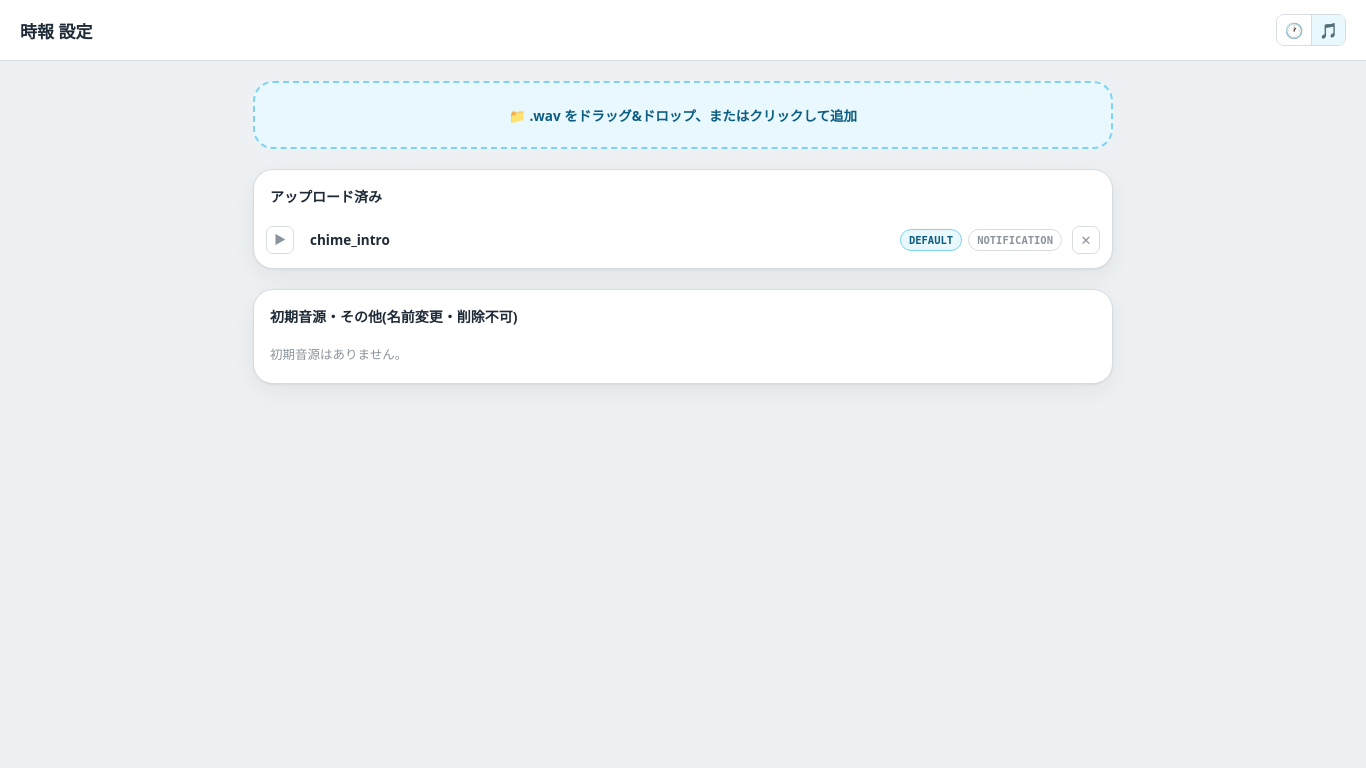
Test: 楽曲管理画面 › 名前変更に失敗すると ErrorDialog を表示し、名前は変わらない
The image size is (1366, 768).
Click the button with aria-label "chime_intro(クリックして名前を変更)": (350, 240) x1=304 y1=227 x2=890 y2=253
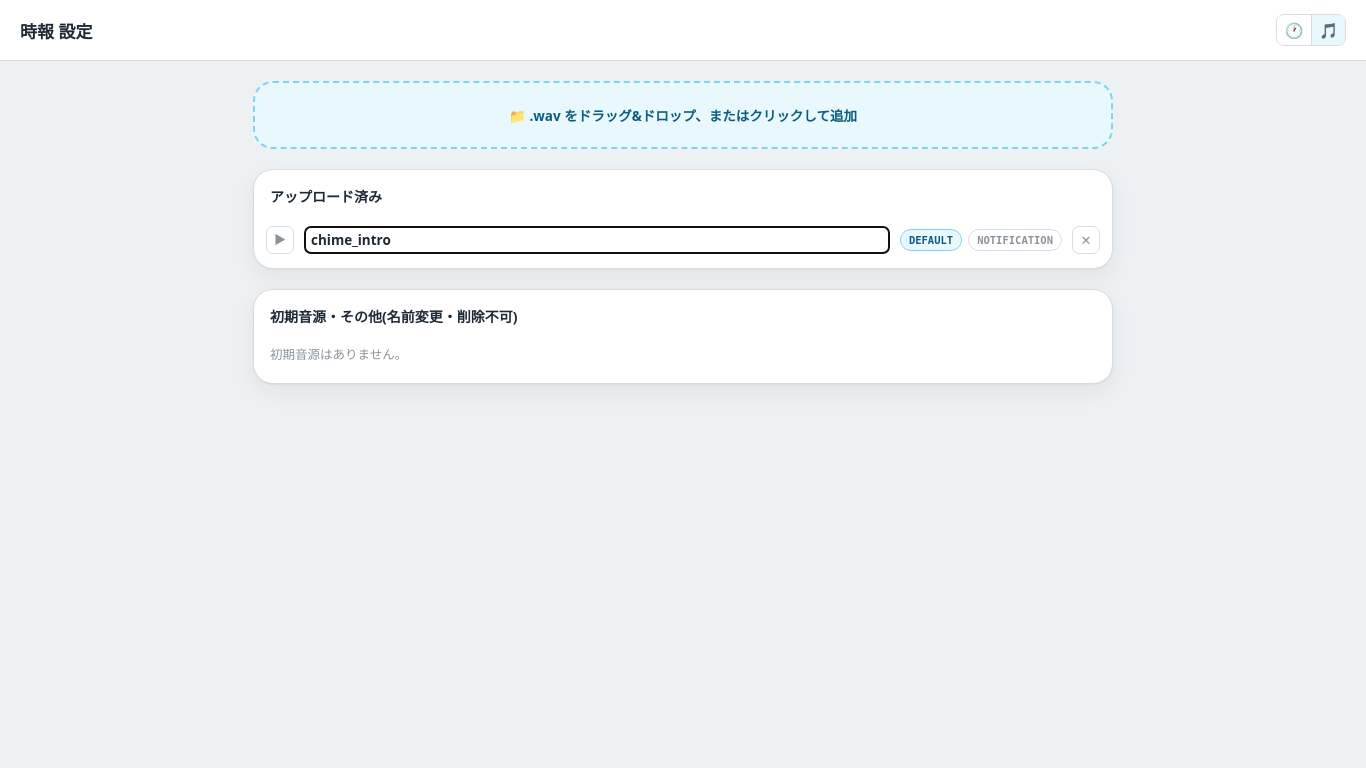
Replace the text in the field named "楽曲名" with "dup_name": (597, 240) x1=304 y1=226 x2=890 y2=254
Then press Enter
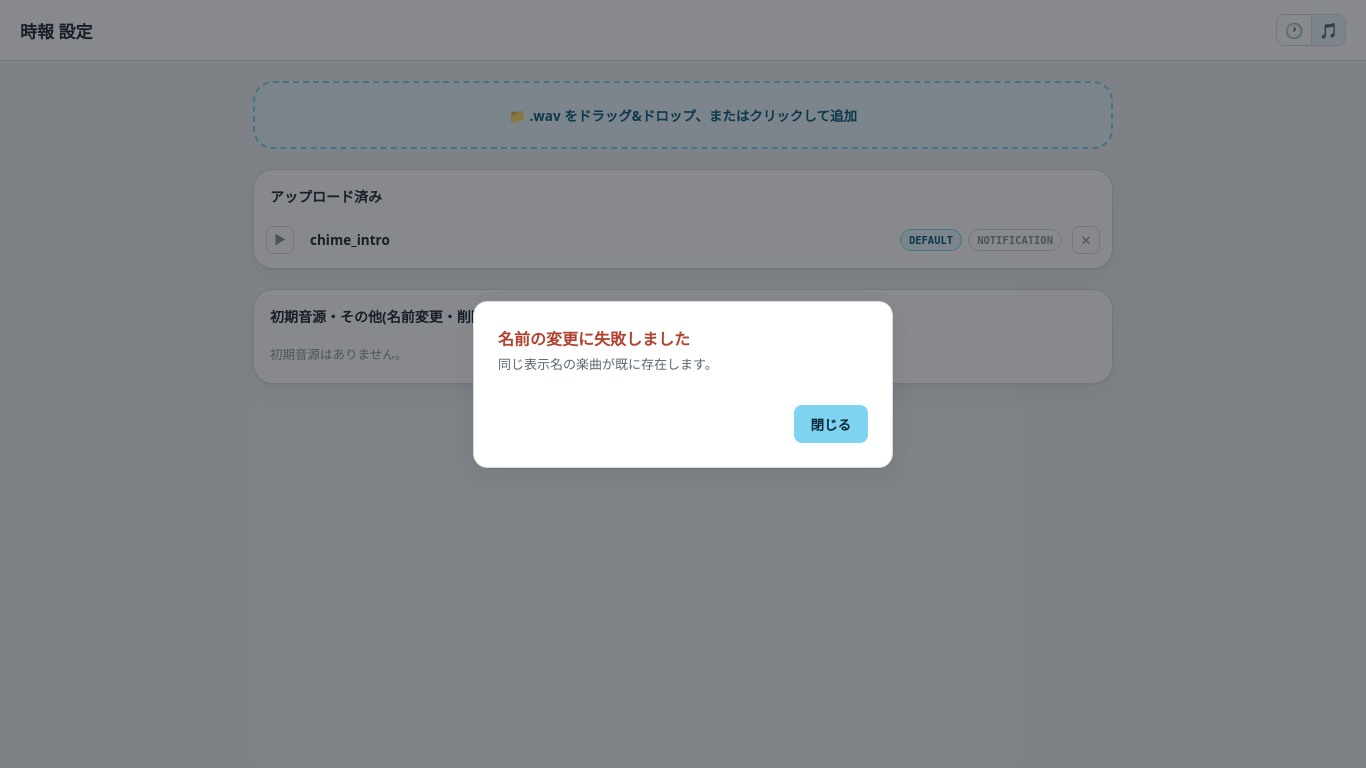
Check: the heading "名前の変更に失敗しました" is shown, box x1=498 y1=328 x2=690 y2=350
Check: the text "同じ表示名の楽曲が既に存在します。" is shown, box x1=498 y1=354 x2=718 y2=372
Check: the button "chime_intro" is shown, box x1=304 y1=227 x2=890 y2=253
